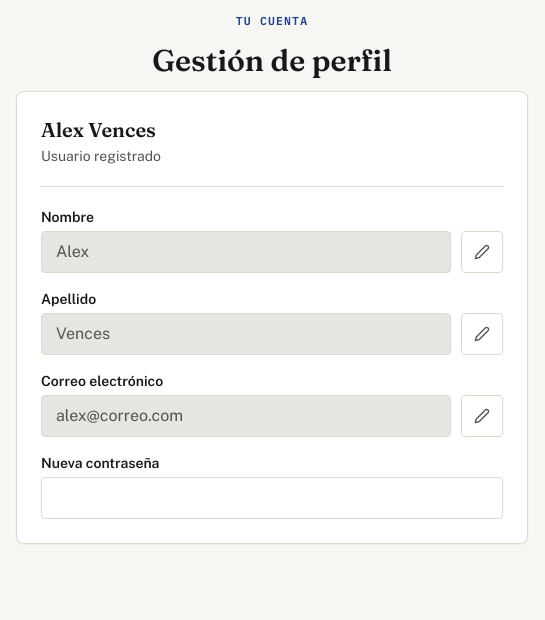
Test: GestionarPerfil › saving sends the changes, keeps the email, confirms and stores the user
This screenshot has width=545, height=620.
Click the button named "Editar nombre". click: (482, 252)
box: [461,231,503,273]
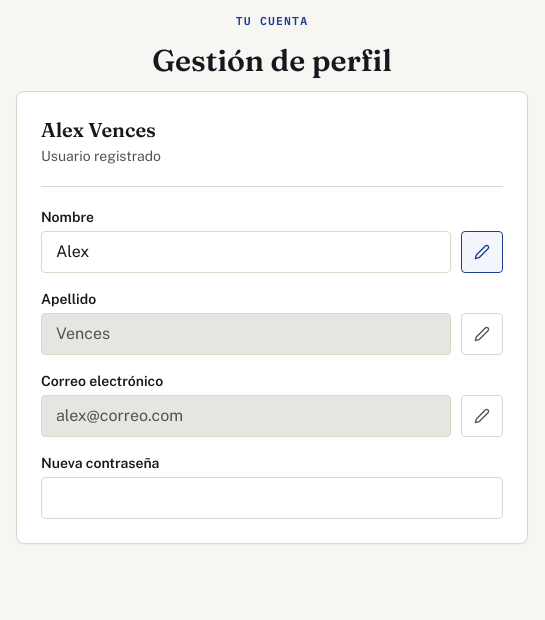
Replace the text in the field labelled "Nombre" with "Alexis". click: (246, 252)
box: [41,231,451,273]
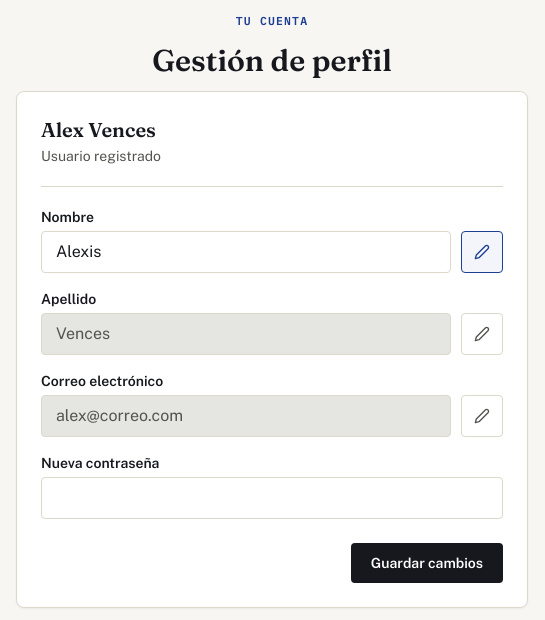
Click the button "Guardar cambios". click: (427, 563)
box: [351,543,503,583]
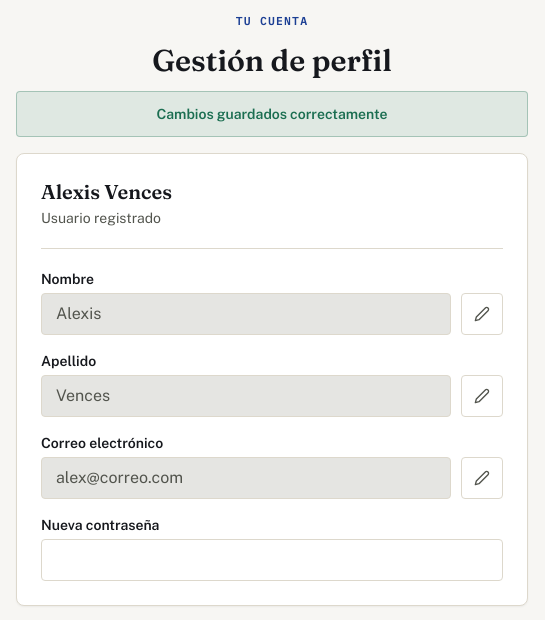
expect the text "Cambios guardados correctamente" is shown: met, box [16,91,528,137]
expect the button "Guardar" is gone: met
expect the field labelled "Nombre" is disabled: met, box [41,293,451,335]
